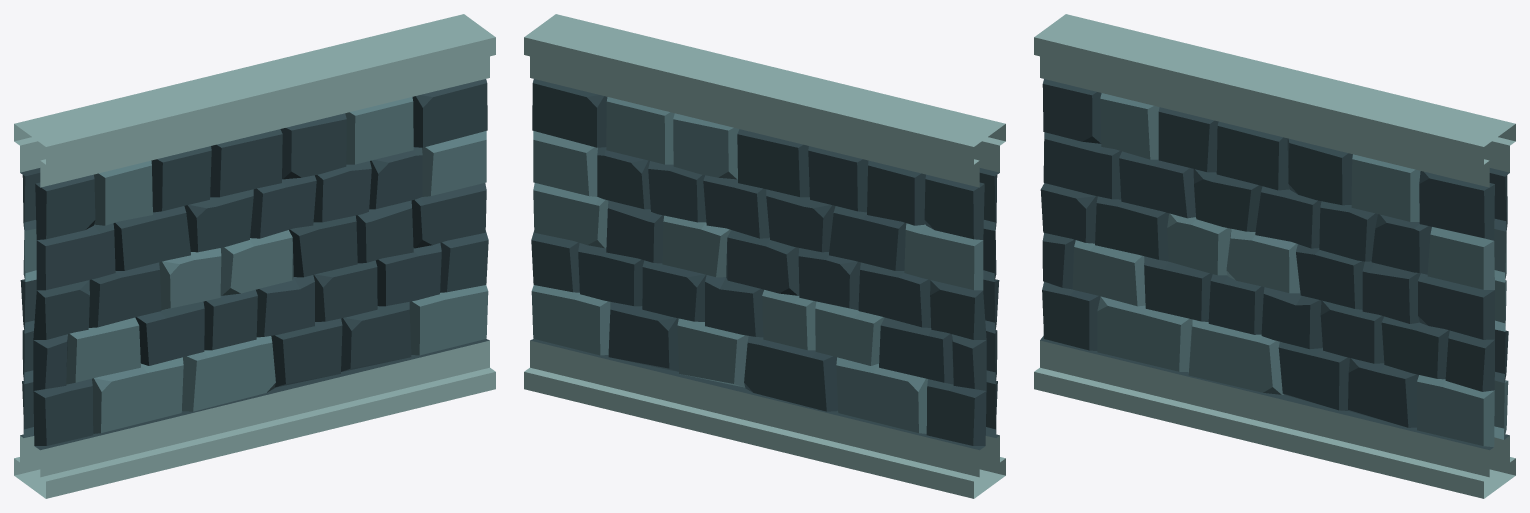
The model's file is wall 1.fbx.
The picture shows the model from 3 angles, left to right: view 1: azimuth 30°, elevation 25°; view 2: azimuth 150°, elevation 25°; view 3: azimuth 330°, elevation 25°; orthographic projection.
Visible parts, largest first — view 1: wall 1; view 2: wall 1; view 3: wall 1.
Part boxes in pixels (bbox=[...]): wall 1: bbox=[14, 14, 495, 498]; wall 1: bbox=[524, 14, 1005, 498]; wall 1: bbox=[1034, 14, 1515, 498].
Size of the model in its own units: 401 by 299 by 48.96.
1 material, 1 textured.
